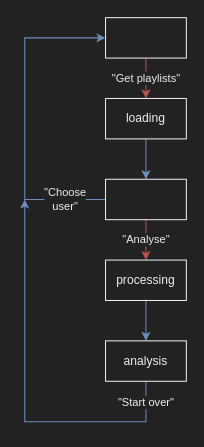
This 204x447 diagram has some shape labels left out. Each missing label, with the centre of its shape:
index: (x=145, y=37)
playlists: (x=145, y=199)
